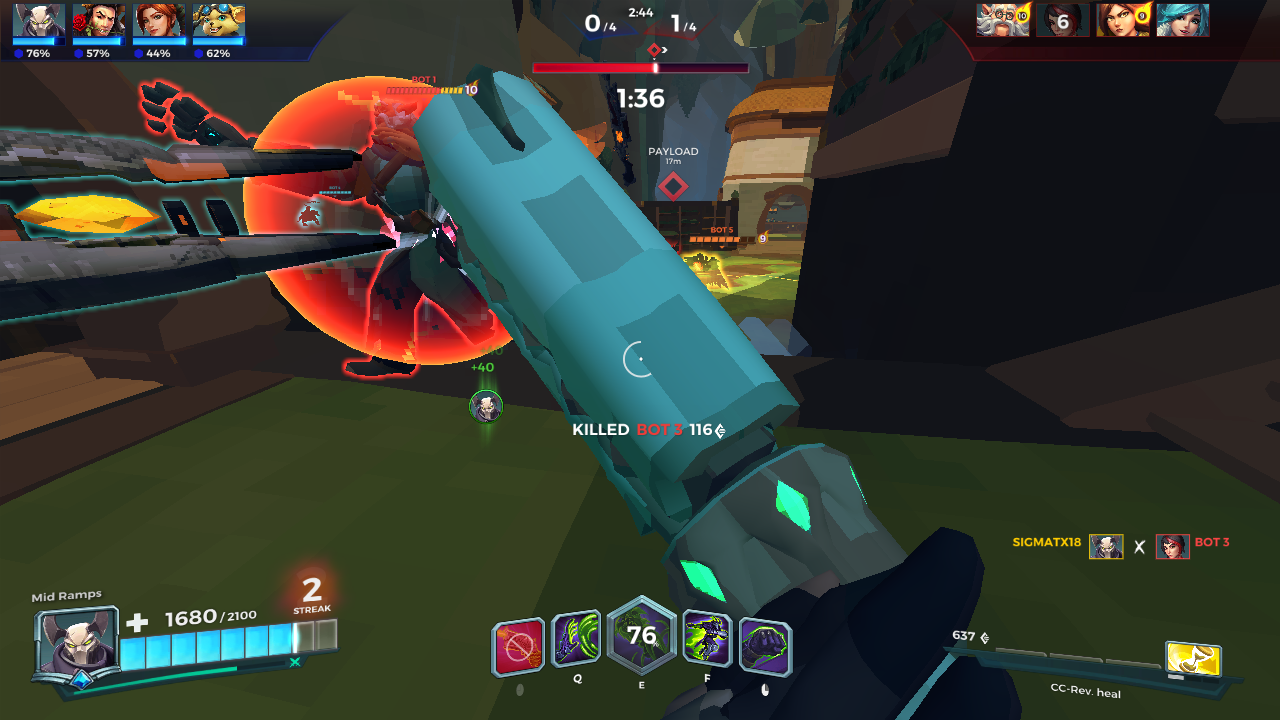model: (274, 87, 511, 384), (669, 244, 727, 315)
